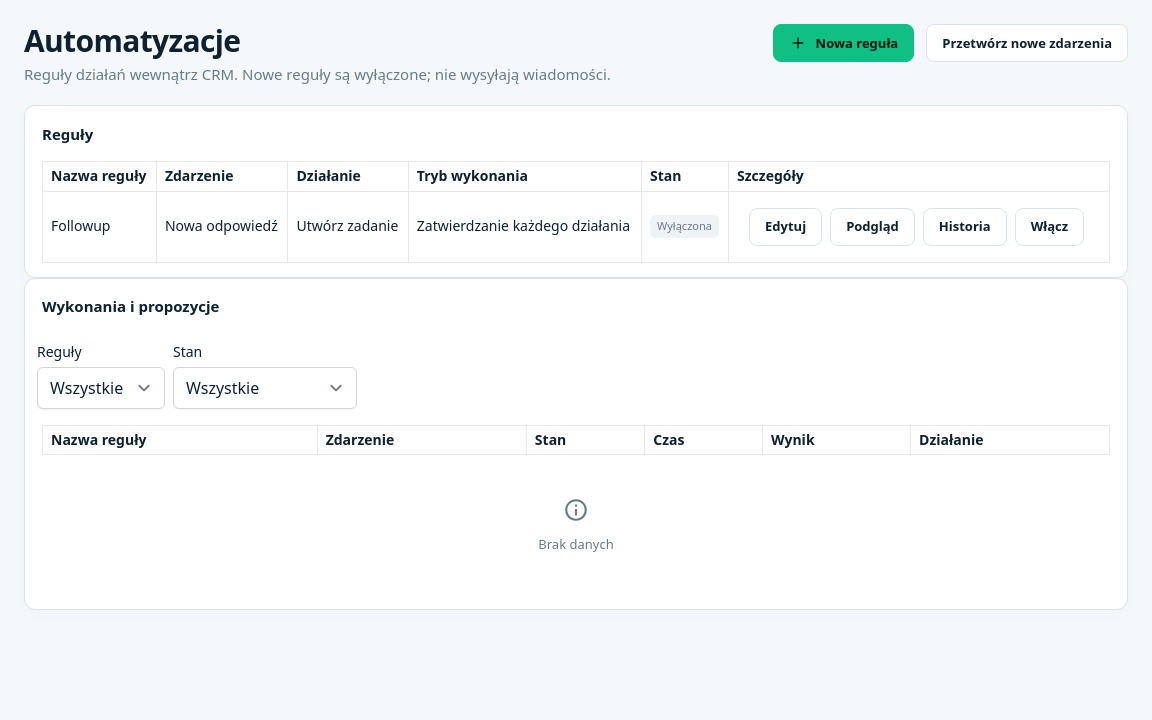
Test: preserves an edited draft when revision validation fails
Click the button "Edytuj". click: [786, 226]
box: x1=749 y1=208 x2=822 y2=246
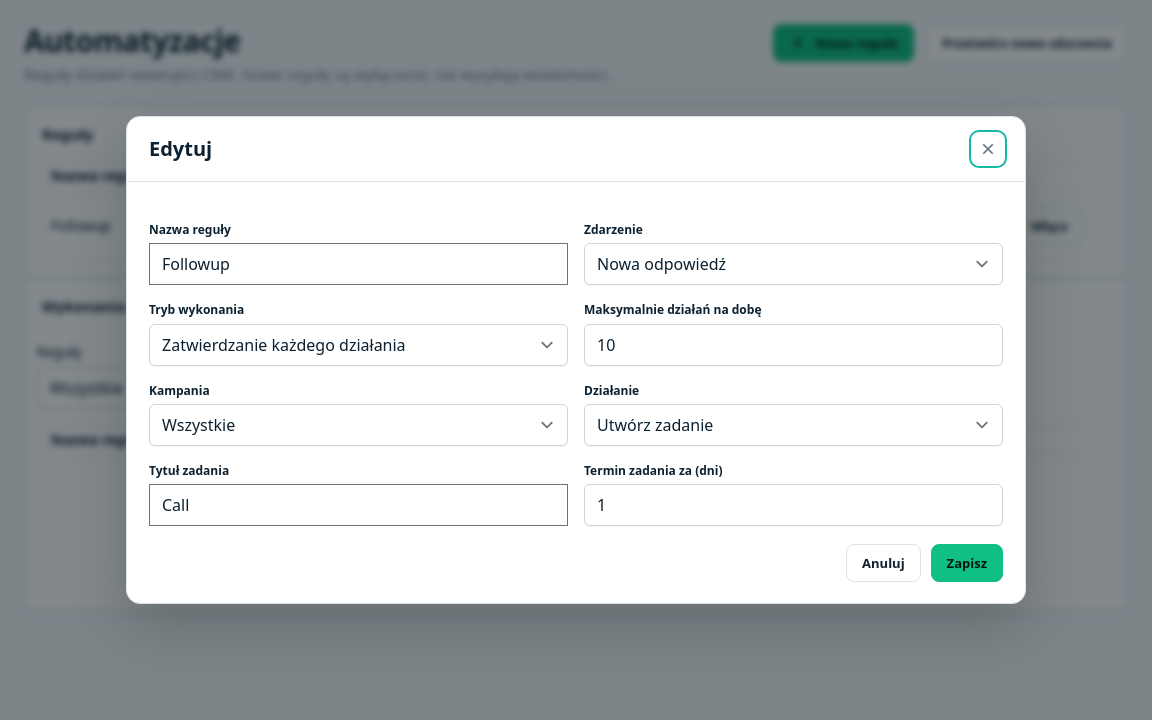
Replace the text in the field labelled "Nazwa reguły" with "Keep draft". click: [358, 264]
box: x1=149 y1=243 x2=568 y2=285
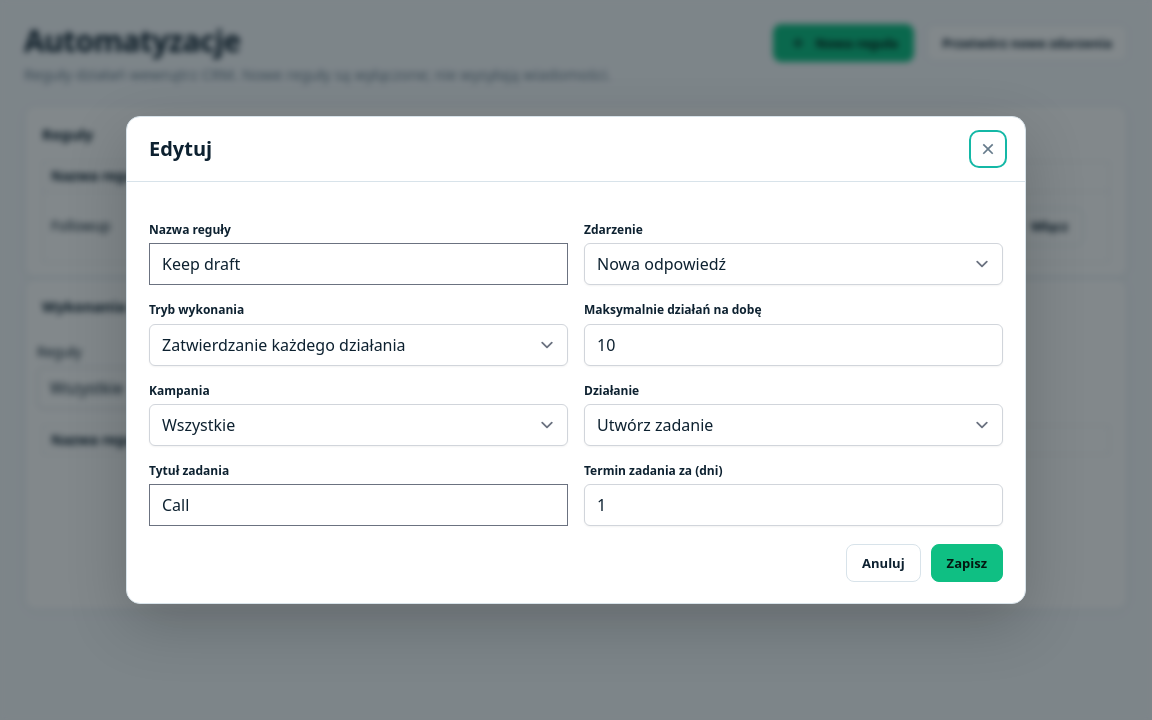
Click the button "Zapisz". click: [967, 563]
box: x1=931 y1=544 x2=1003 y2=582
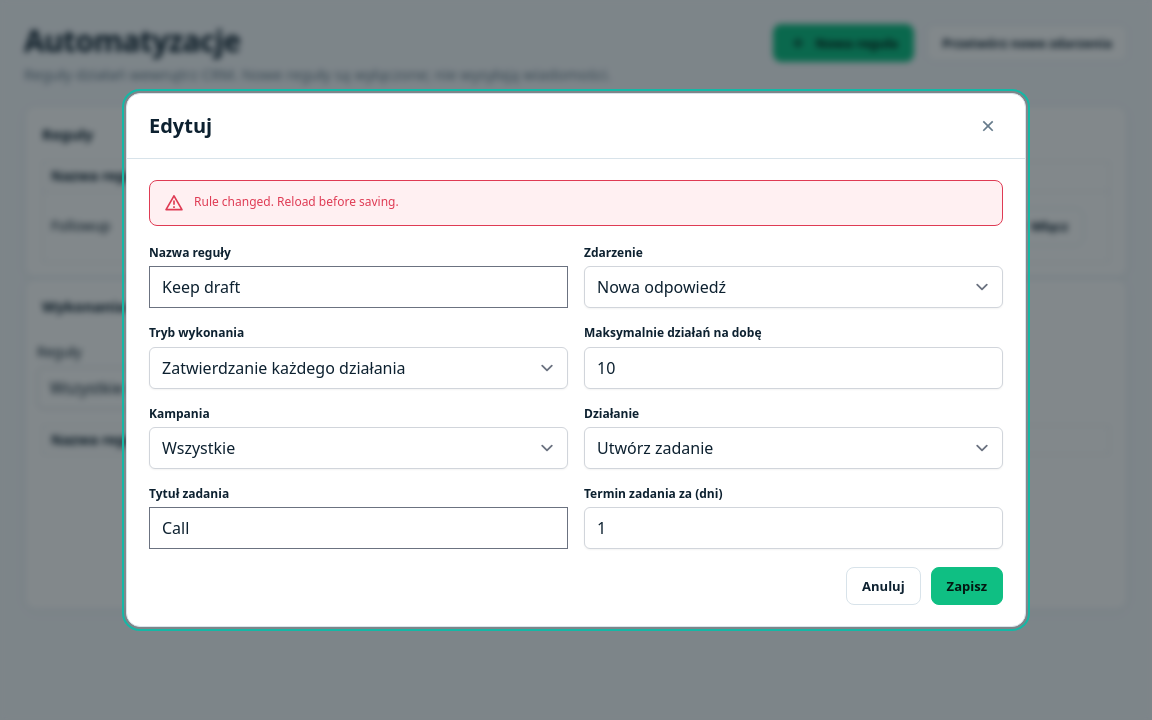
Now the text "Rule changed. Reload before saving." is shown, box x1=194 y1=193 x2=399 y2=210
